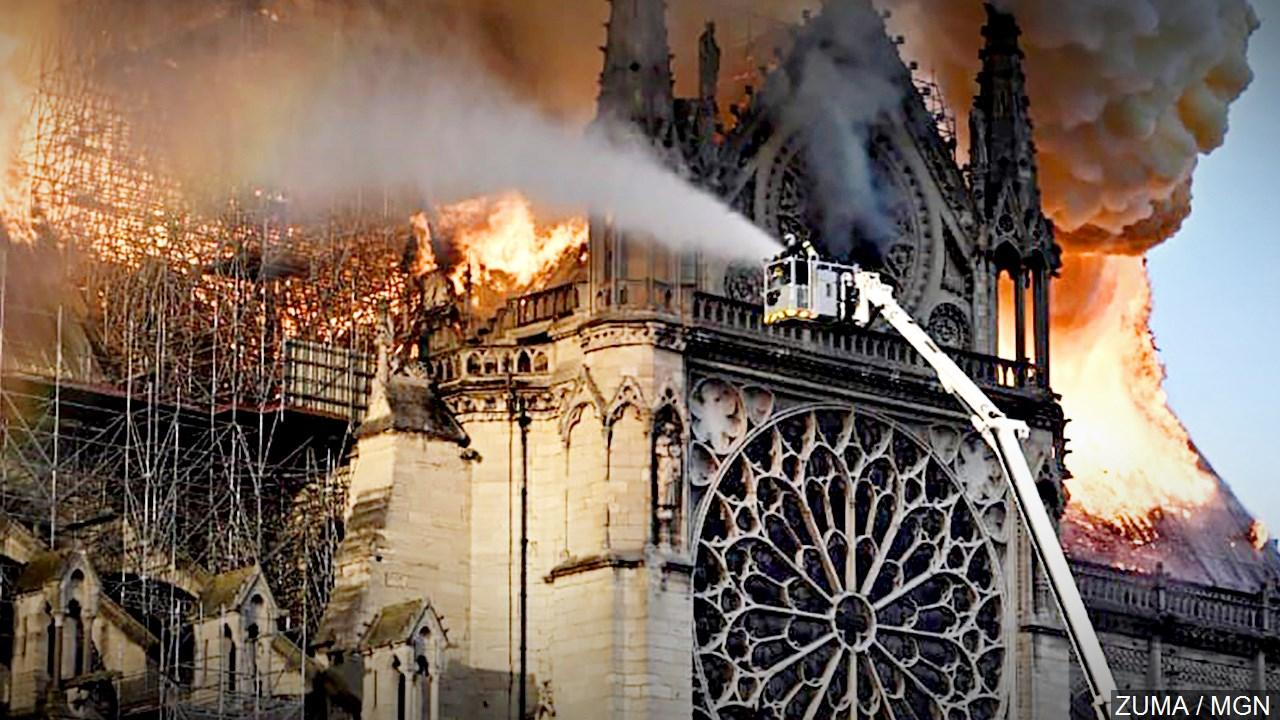Fire: (179, 60, 621, 347), (995, 152, 1228, 531)
